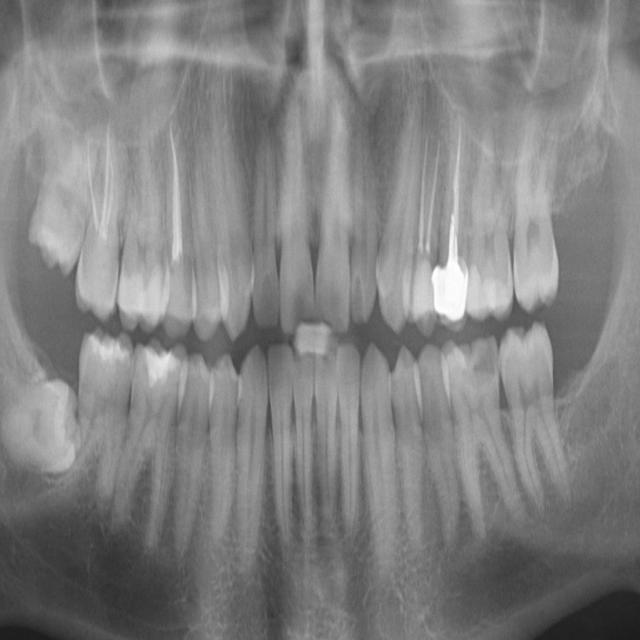infected-teeth: (403, 97, 447, 332), (75, 109, 125, 312), (432, 103, 474, 321), (160, 107, 199, 334)
